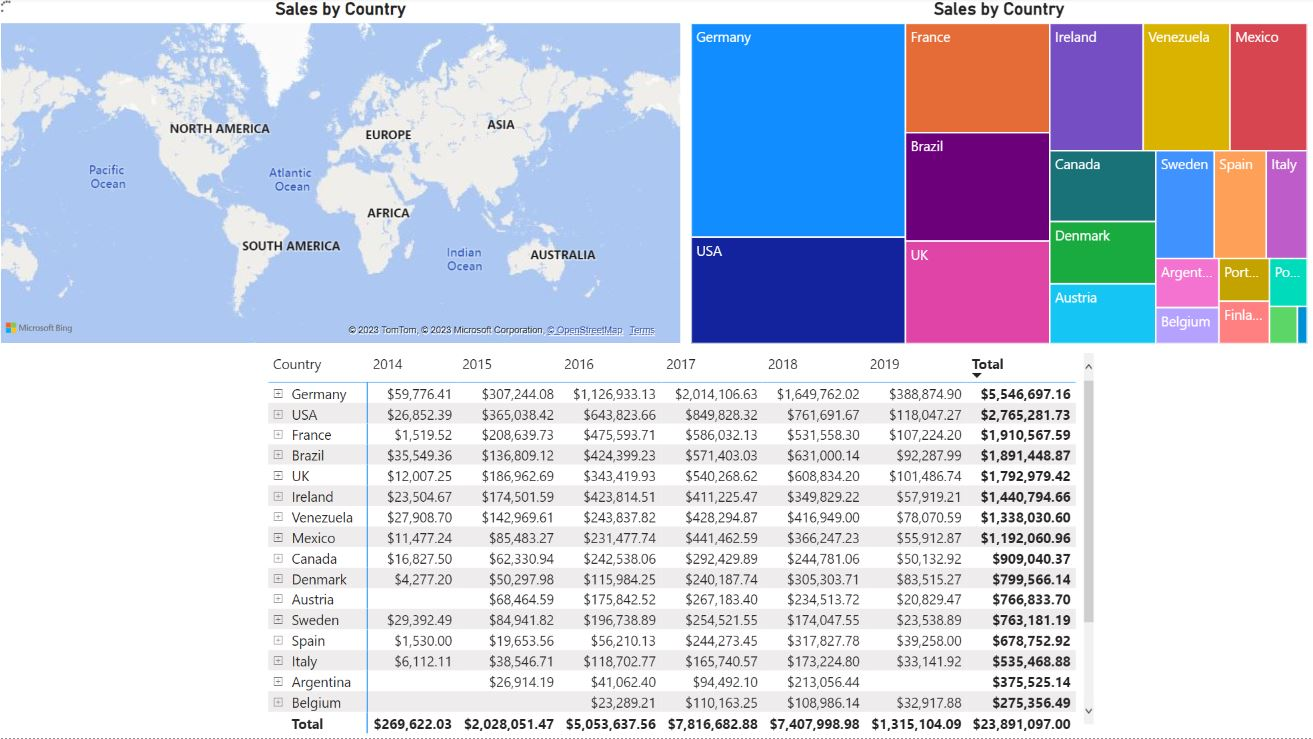

What the dashboard file says about the page in this screenshot:
{"tool":"powerbi","page":{"name":"Country Analysis","canvas":[1280,720],"ordinal":4},"visuals":[{"type":"filledMap","title":"Sales by Country","fields":{"Category":["customers_dim.Country"]},"box":[0,0,670.4,340.1],"z":0},{"type":"treemap","title":"Sales by Country","fields":{"Values":["Sum(orderdetails_fact.Sales)"],"Group":["customers_dim.Country"]},"box":[670.4,0,609.2,341.1],"z":1000},{"type":"pivotTable","fields":{"Values":["Sum(orderdetails_fact.Sales)"],"Columns":["orders_dim.OrderDate.Variation.Date Hierarchy.Year"],"Rows":["customers_dim.Country","orders_dim.OrderDate.Variation.Date Hierarchy.Quarter"]},"box":[259.4,340.1,812.3,379.9],"z":2000}]}

Visuals, with their boxes in screenshot pixels (x1, y1, x2, y2), scaled from the page's 1280x720 canvas onto the 1313x739 screenshot:
"Sales by Country" filledMap: 0:0:688:349
"Sales by Country" treemap: 688:0:1312:350
pivotTable - Sum(orderdetails_fact.Sales) x orders_dim.OrderDate.Variation.Date Hierarchy.Year: 266:349:1099:738
